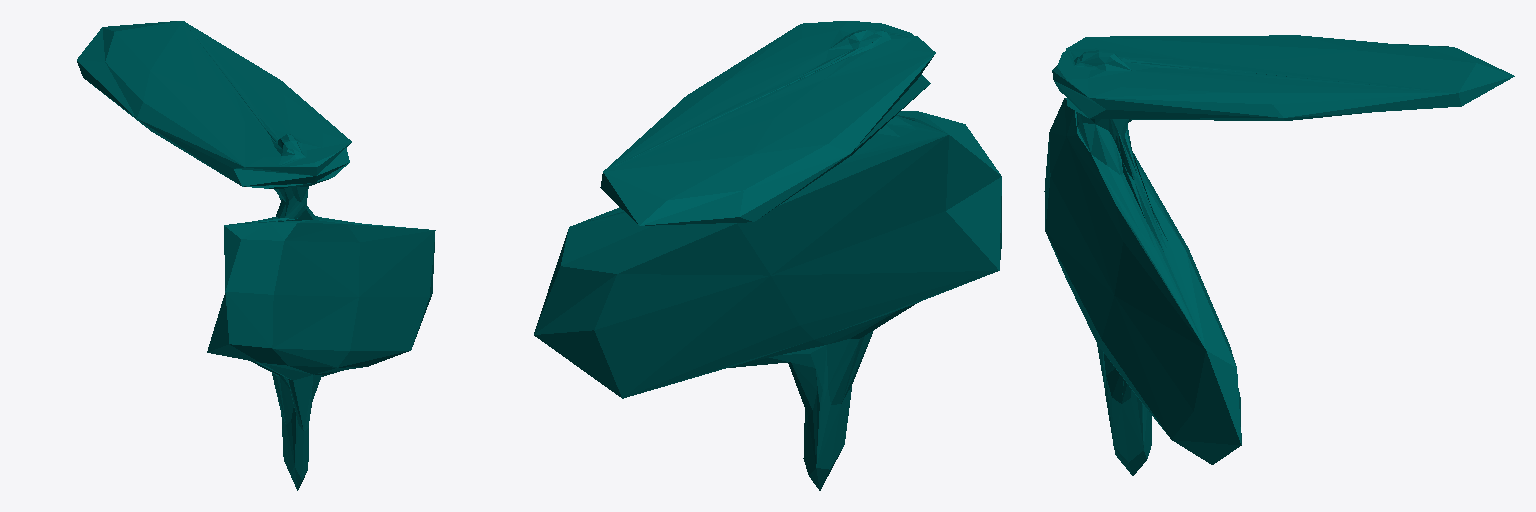
robot.urdf — blob723:

<robot name="blob723">
  <link name="random_obj_723">
    <contact>
      <lateral_friction value="1.0"/>
      <rolling_friction value="0.0"/>
      <inertia_scaling value="3.0"/>
      <contact_cfm value="0.0"/>
      <contact_erp value="1.0"/>
    </contact>
    <inertial>
      <origin rpy="0 0 0" xyz="0 0 0"/>
      <mass value="0.1123"/>
      <inertia ixx="1" ixy="0" ixz="0" iyy="1" iyz="0" izz="0"/>
    </inertial>
    <visual>
      <origin rpy="0 0 0" xyz="0 0 0"/>
      <geometry>
        <mesh filename="723.obj" scale="0.0067 0.0067 0.0067"/>
      </geometry>
      <material name="blockmat">
        <color rgba="0.02 0.40 0.40 1"/>
      </material>
    </visual>
    <collision>
      <origin rpy="0 0 0" xyz="0 0 0"/>
      <geometry>
        <mesh filename="723_coll.obj" scale="0.0067 0.0067 0.0067"/>
      </geometry>
    </collision>
  </link>
</robot>

--- Facts derived from the render (not from the file) ---
Views: 3 orthographic renders of the robot side by side, from view 1: azimuth 30°, elevation 25°; view 2: azimuth 150°, elevation 25°; view 3: azimuth 270°, elevation 25°.
Robot: blob723 — 1 links, 0 joints (none); root link random_obj_723; default pose: every joint at zero.
Visible links, largest first — view 1: random_obj_723; view 2: random_obj_723; view 3: random_obj_723.
Link boxes in pixels (x1,y1,x2,y2): random_obj_723: [77, 21, 435, 490]; random_obj_723: [534, 21, 1001, 490]; random_obj_723: [1044, 35, 1514, 475].
Bounding box of the posed robot: 0.0683 × 0.0826 × 0.0799 m (x, y, z).
Meshes: 1 distinct files referenced, 1 mesh visuals loaded (1 OBJ).
